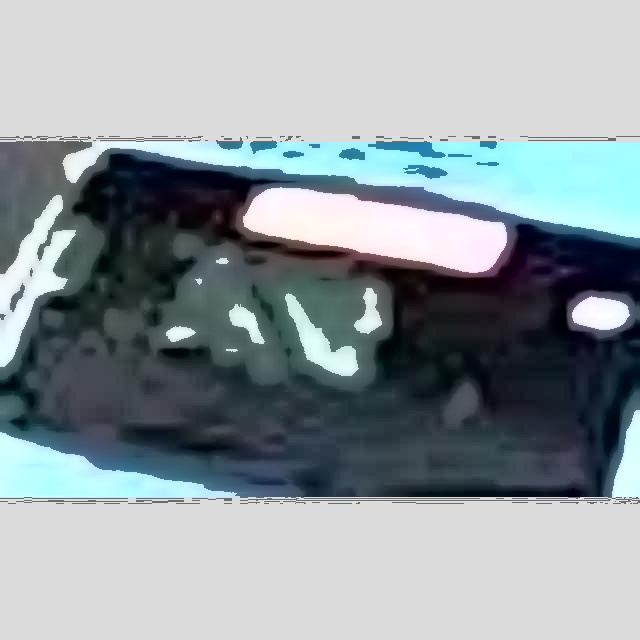pakai: (142, 195, 400, 373)
